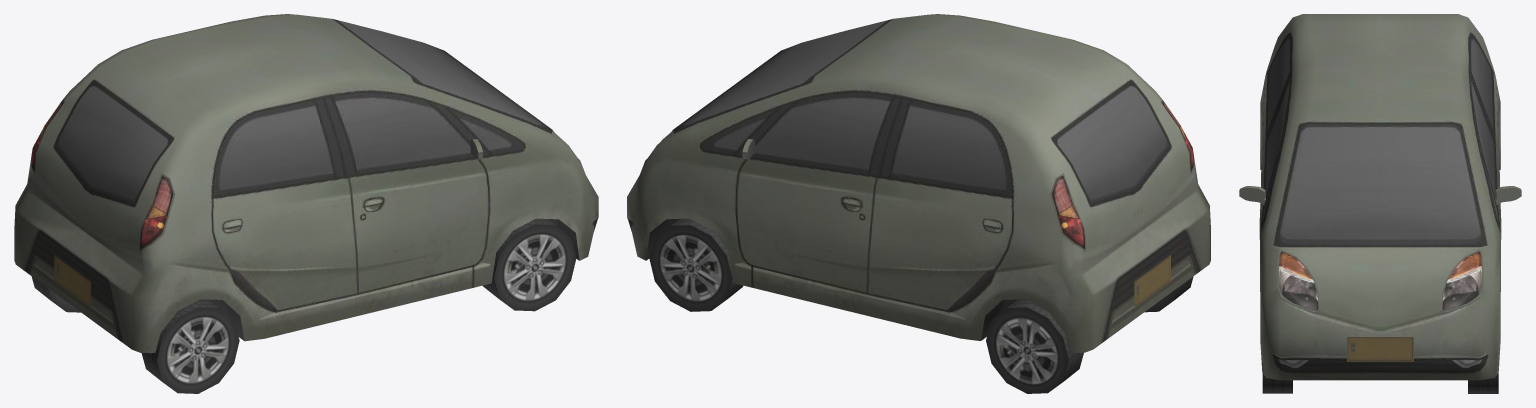
File: sf_hatchback_01.glb
3 renders of one model, left to right at view 1: azimuth 30°, elevation 25°; view 2: azimuth 150°, elevation 25°; view 3: azimuth 270°, elevation 25°, orthographic. The views are drawn at different scales.
Visible parts, largest first — view 1: Traffic_Hatchback_01_Body, Traffic_Hatchback_01_Wheel_Back_R_Traffic_Vehicle_Wheels_01_, Traffic_Hatchback_01_Wheel_Front_R_Traffic_Vehicle_Wheels_01, Traffic_Hatchback_01_Light_Break, Traffic_Hatchback_01_Light_Rear; view 2: Traffic_Hatchback_01_Body, Traffic_Hatchback_01_Wheel_Back_L_Traffic_Vehicle_Wheels_01_, Traffic_Hatchback_01_Wheel_Front_L_Traffic_Vehicle_Wheels_01, Traffic_Hatchback_01_Light_Break, Traffic_Hatchback_01_Light_Rear; view 3: Traffic_Hatchback_01_Body, Traffic_Hatchback_01_Light, Traffic_Hatchback_01_Light_Turn_R, Traffic_Hatchback_01_Light_Turn_L, Traffic_Hatchback_01_Wheel_Front_L_Traffic_Vehicle_Wheels_01, Traffic_Hatchback_01_Wheel_Front_R_Traffic_Vehicle_Wheels_01.
Part boxes in pixels (x1=…): Traffic_Hatchback_01_Body: x1=14, y1=14, x2=598, y2=353; Traffic_Hatchback_01_Wheel_Back_R_Traffic_Vehicle_Wheels_01_: x1=141, y1=299, x2=239, y2=393; Traffic_Hatchback_01_Wheel_Front_R_Traffic_Vehicle_Wheels_01: x1=483, y1=218, x2=576, y2=311; Traffic_Hatchback_01_Light_Break: x1=31, y1=133, x2=169, y2=251; Traffic_Hatchback_01_Light_Rear: x1=45, y1=100, x2=175, y2=214; Traffic_Hatchback_01_Body: x1=627, y1=14, x2=1210, y2=352; Traffic_Hatchback_01_Wheel_Back_L_Traffic_Vehicle_Wheels_01_: x1=986, y1=299, x2=1083, y2=393; Traffic_Hatchback_01_Wheel_Front_L_Traffic_Vehicle_Wheels_01: x1=649, y1=218, x2=742, y2=311; Traffic_Hatchback_01_Light_Break: x1=1056, y1=133, x2=1193, y2=251; Traffic_Hatchback_01_Light_Rear: x1=1050, y1=100, x2=1179, y2=214; Traffic_Hatchback_01_Body: x1=1239, y1=14, x2=1521, y2=380; Traffic_Hatchback_01_Light: x1=1277, y1=262, x2=1483, y2=311; Traffic_Hatchback_01_Light_Turn_R: x1=1277, y1=250, x2=1314, y2=280; Traffic_Hatchback_01_Light_Turn_L: x1=1446, y1=250, x2=1482, y2=280; Traffic_Hatchback_01_Wheel_Front_L_Traffic_Vehicle_Wheels_01: x1=1468, y1=373, x2=1498, y2=393; Traffic_Hatchback_01_Wheel_Front_R_Traffic_Vehicle_Wheels_01: x1=1262, y1=374, x2=1292, y2=393.
Size of the model in its own units: 2.94 by 1.58 by 1.65.
3 materials, 3 textured.
